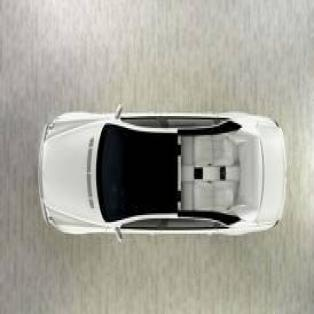Auto: (34, 100, 289, 246)
